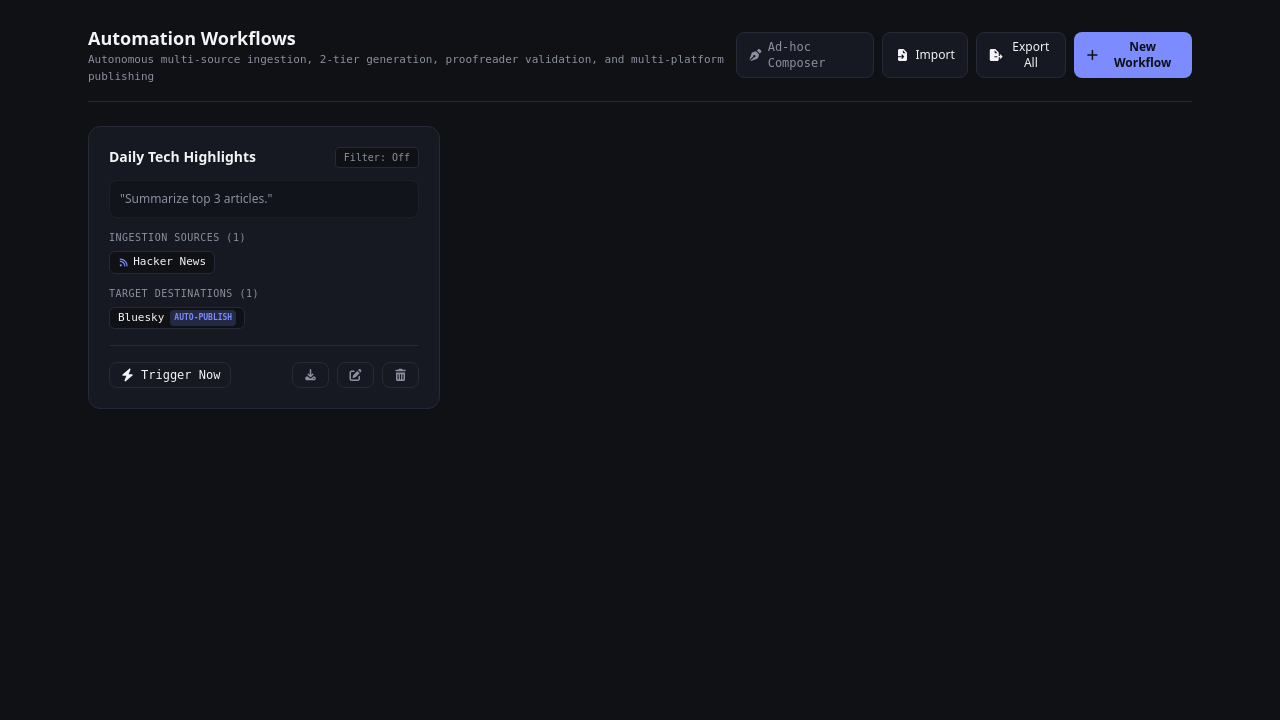
Test case: WorkflowsPanel › opens import modal when clicking Import
Expected: the heading "Daily Tech Highlights" is shown, x1=109 y1=147 x2=256 y2=167
Click the button "Import" at (925, 54), box x1=882 y1=32 x2=968 y2=78
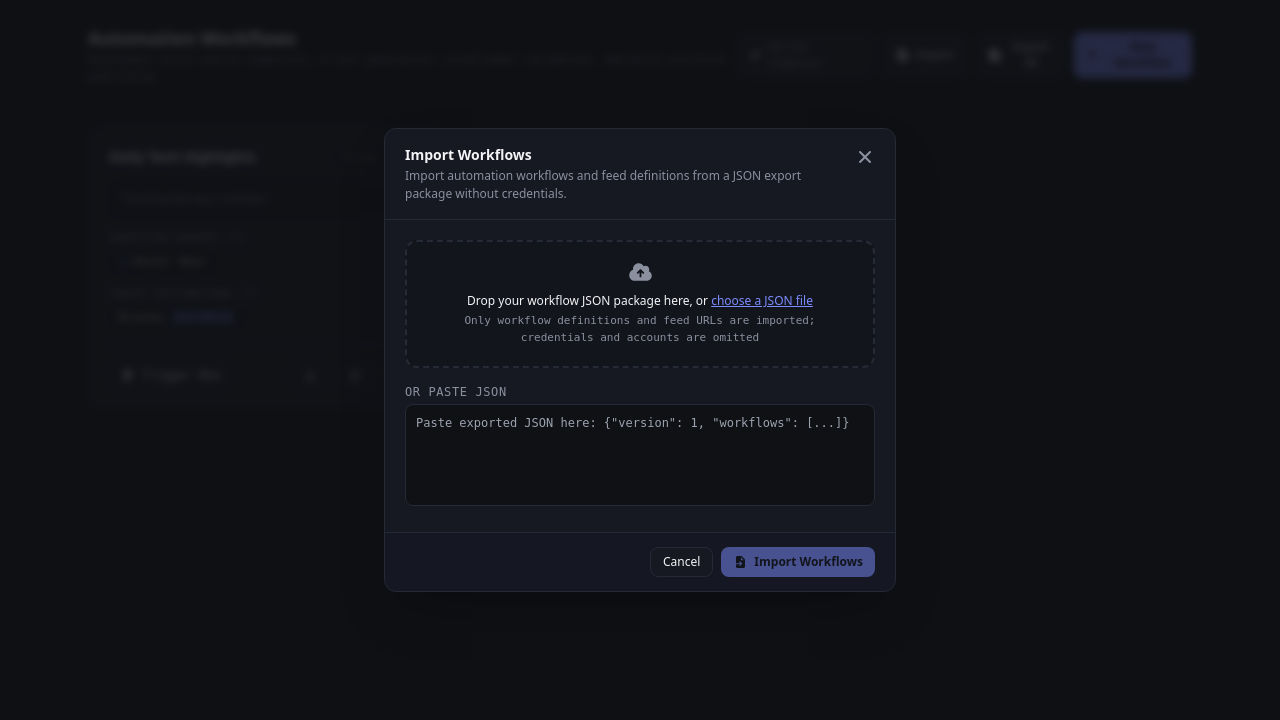
Now the heading "Import Workflows" is shown, box x1=405 y1=145 x2=532 y2=164
